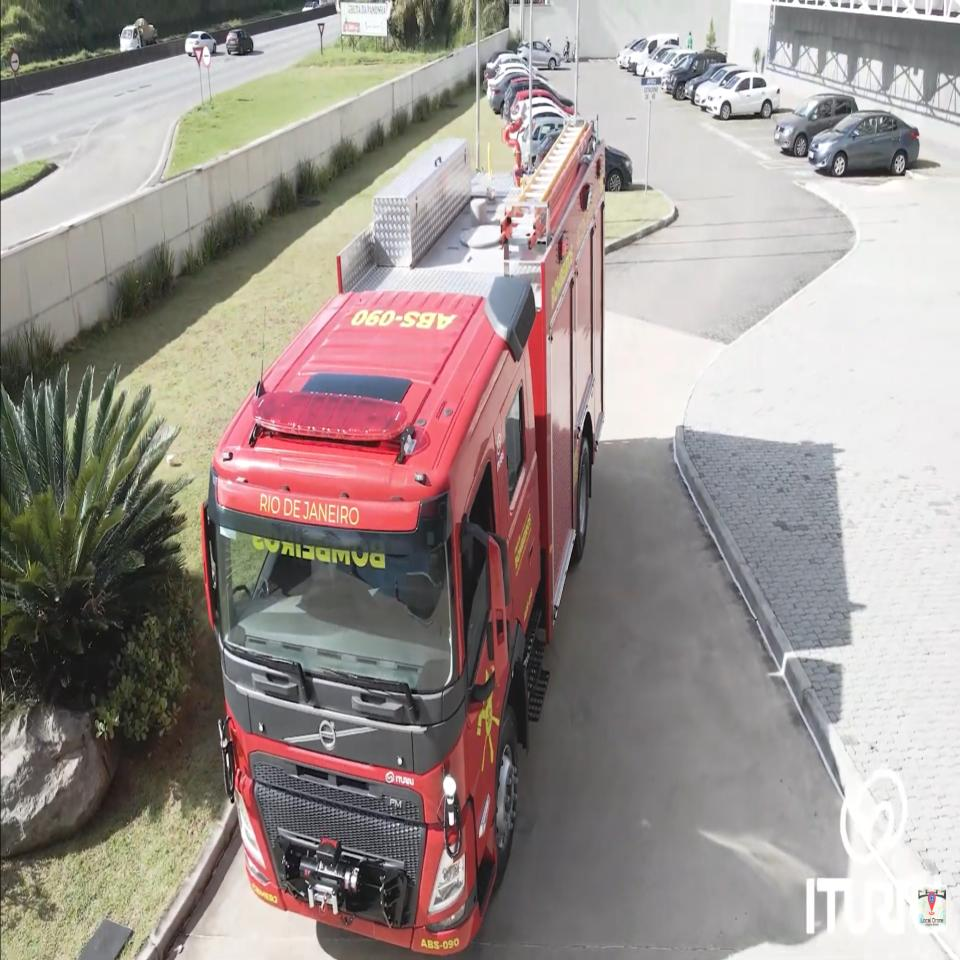viatura: (200, 109, 609, 960)
